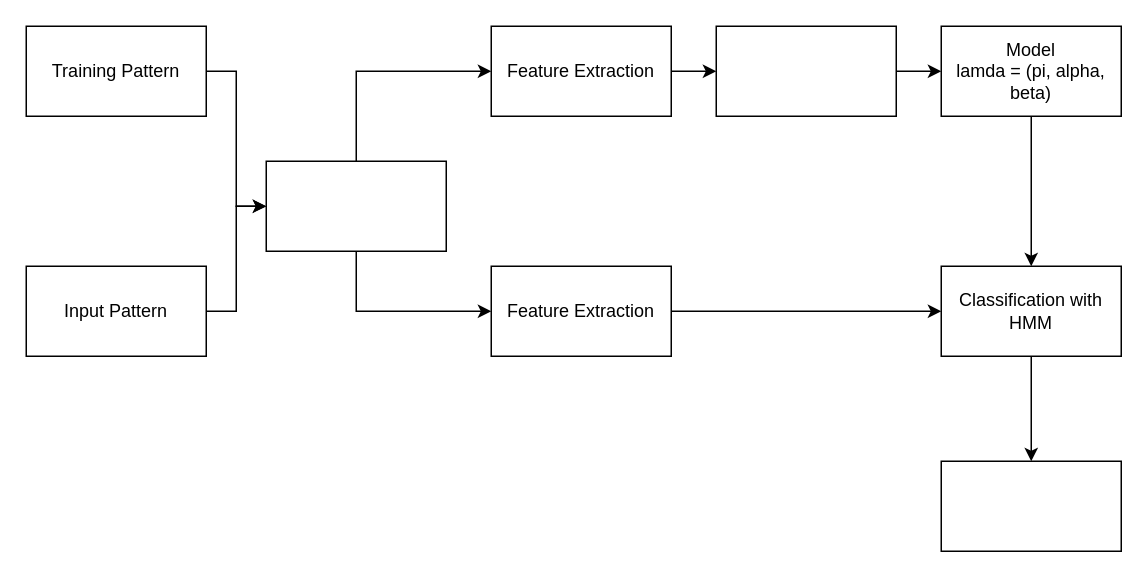
The diagram is 1148 pixels wide and 578 high, and some of its shapes have lost their labels. The centre of each missing label's shape, as x and y in pixels:
Output text: the point at 1030,505
Preprocessing And Normalization: the point at 355,205
Reestimation of HMM Parameters: the point at 805,70
